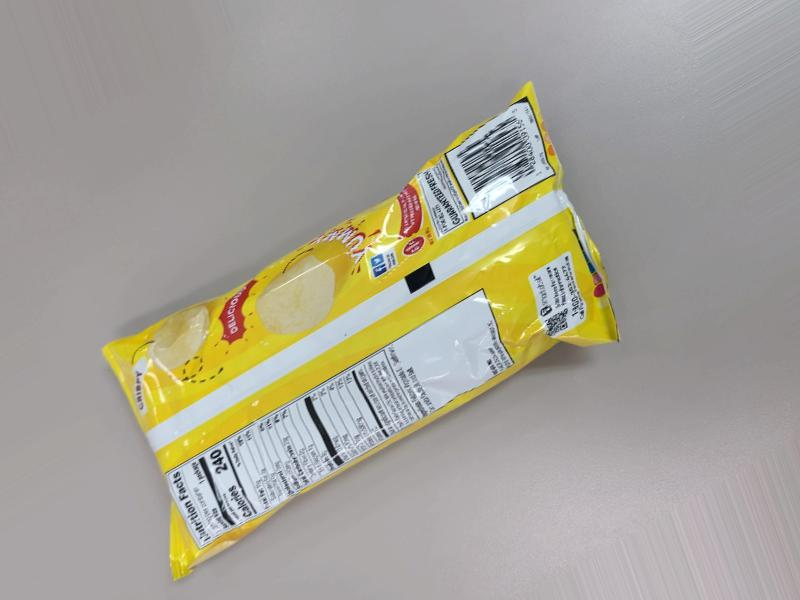lays: (87, 81, 628, 600)
